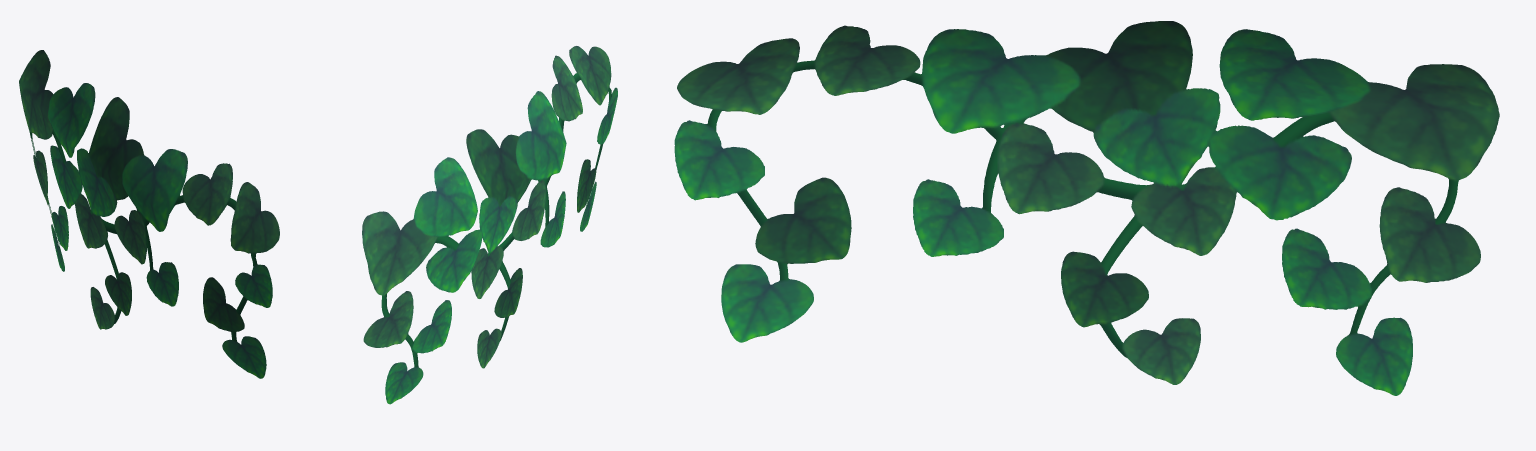
File: Asset_Vigne_D_01.fbx
The picture shows the model from 3 angles, left to right: view 1: azimuth 30°, elevation 25°; view 2: azimuth 150°, elevation 25°; view 3: azimuth 270°, elevation 25°; orthographic projection. The views are drawn at different scales.
Visible parts, largest first — view 1: Asset_Vigne_D_01; view 2: Asset_Vigne_D_01; view 3: Asset_Vigne_D_01.
Boxes of the visible parts, box(x1,y1,x2,y2) form: Asset_Vigne_D_01: box(19, 50, 279, 378); Asset_Vigne_D_01: box(362, 46, 617, 404); Asset_Vigne_D_01: box(674, 21, 1499, 395).
Size of the model in its own units: 89.94 by 343 by 679.
